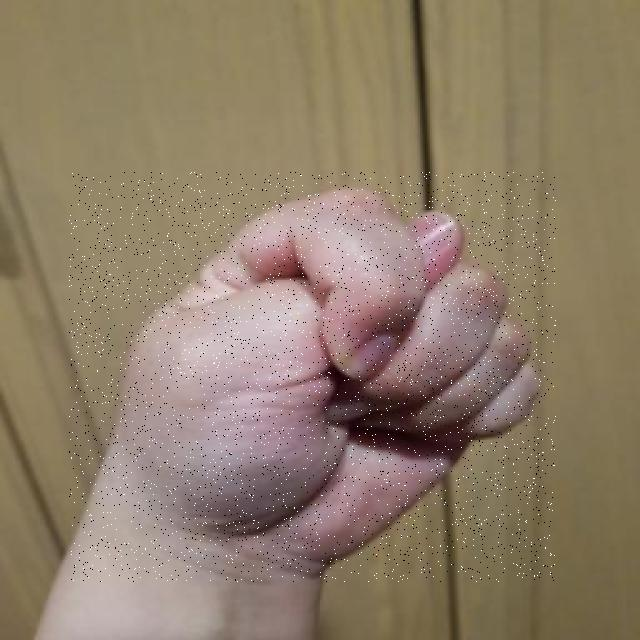T: (69, 172, 556, 582)
